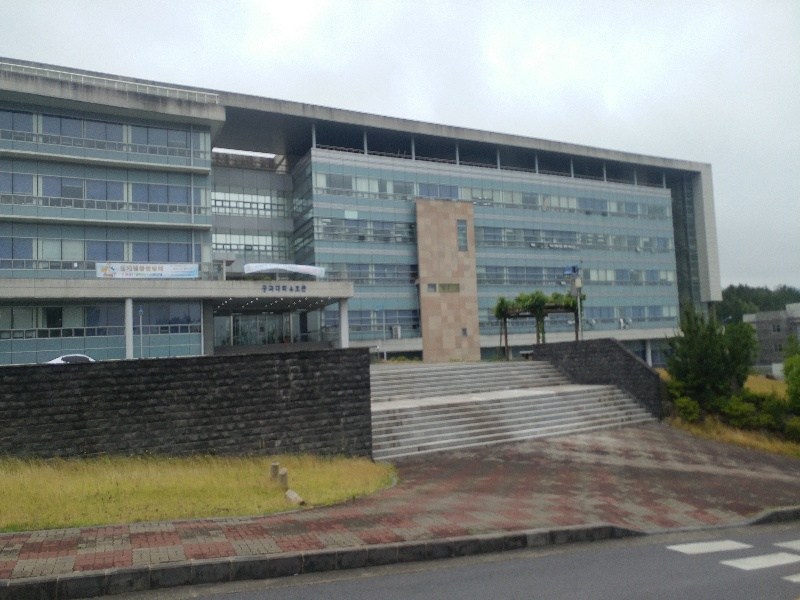Engineering College Building 4: (5, 126, 721, 359), (256, 281, 317, 296)
